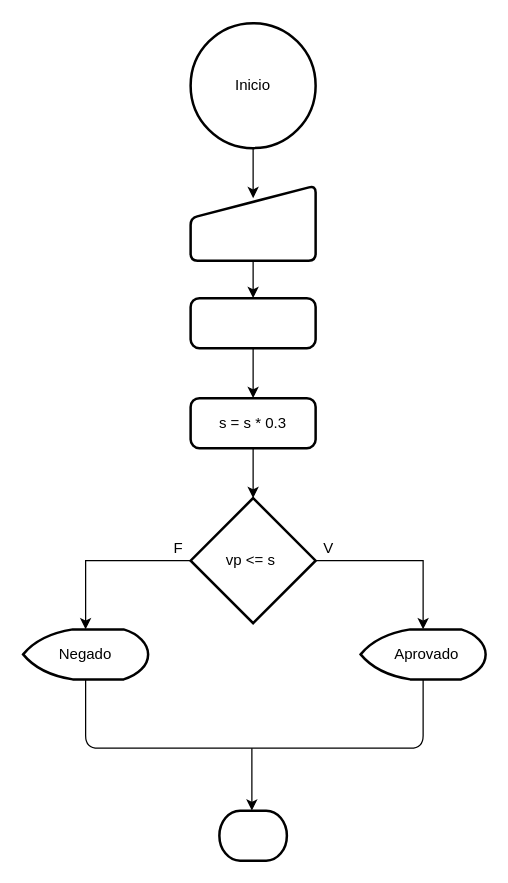
Some shapes in this 508 by 883 pixel diagram are drawn without their labels. Here are the shapes that lost their labels. From the top down, the centre of each, then its label:
the point at 252,222: e, n, s
the point at 252,322: vp = e/n
the point at 253,835: Fim
